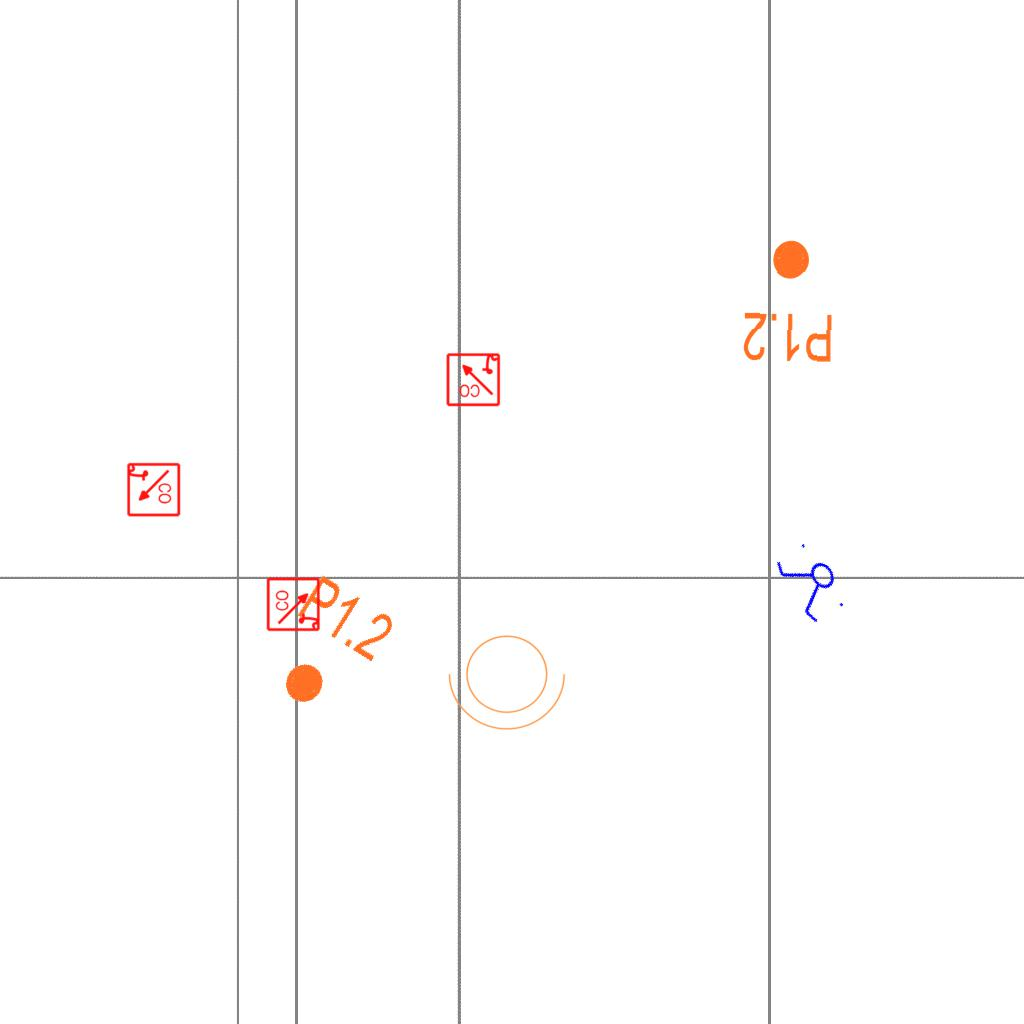Downlight_LED_Einbauleuchten_Flur: (254, 570, 401, 728), (740, 236, 837, 366)
ROA_Rauchmelder_optisch_mit_Signalgeber_(Sockelsirene): (125, 462, 181, 518), (445, 351, 501, 407), (266, 576, 322, 632)
Scheinwerfer_fuer_Alarmbeleuchtung: (444, 623, 576, 735)
Serienschalter: (768, 534, 856, 632)
